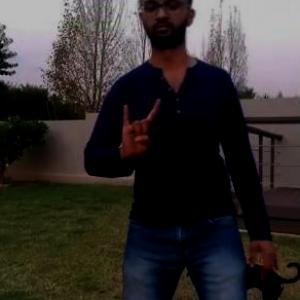takeoff-hand: (115, 94, 163, 170)
